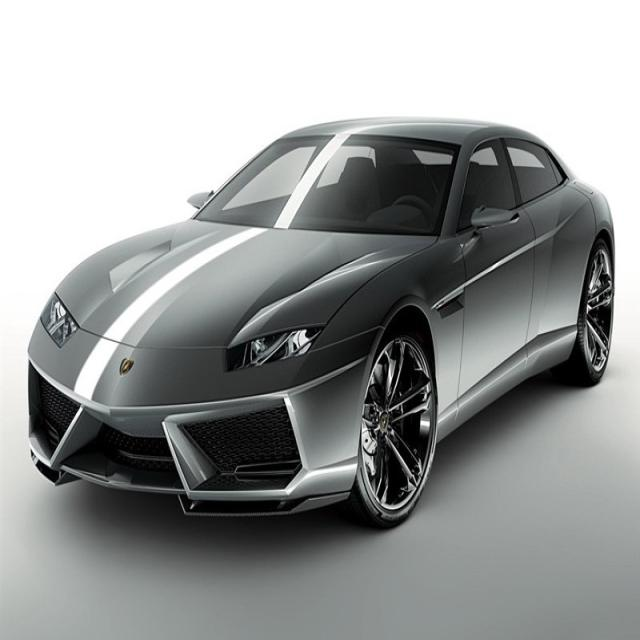front_bumper: (23, 342, 374, 519)
front_glass: (192, 131, 462, 238)
front_left_side_door: (449, 132, 538, 435)
front_left_side_light: (222, 322, 326, 374)
front_left_side_mirror: (468, 203, 521, 236)
front_right_side_light: (38, 288, 81, 350)
front_right_side_mirror: (186, 188, 215, 214)
wheel: (341, 324, 438, 529), (554, 234, 616, 386)
